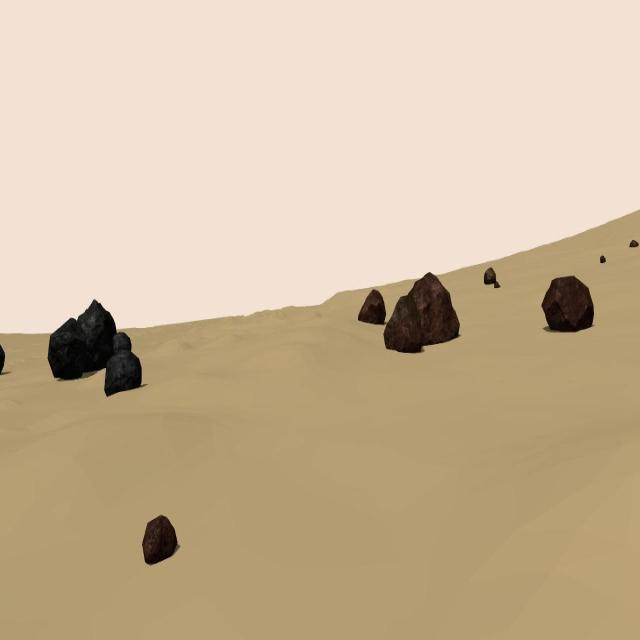rock: (404, 272, 459, 346), (541, 276, 594, 331), (79, 299, 116, 372), (48, 318, 85, 380), (384, 297, 421, 353), (143, 513, 177, 565), (104, 350, 142, 396), (357, 289, 386, 325), (113, 330, 132, 354), (484, 266, 496, 284), (0, 343, 4, 373), (629, 240, 638, 248), (600, 255, 606, 264), (494, 281, 501, 288)
